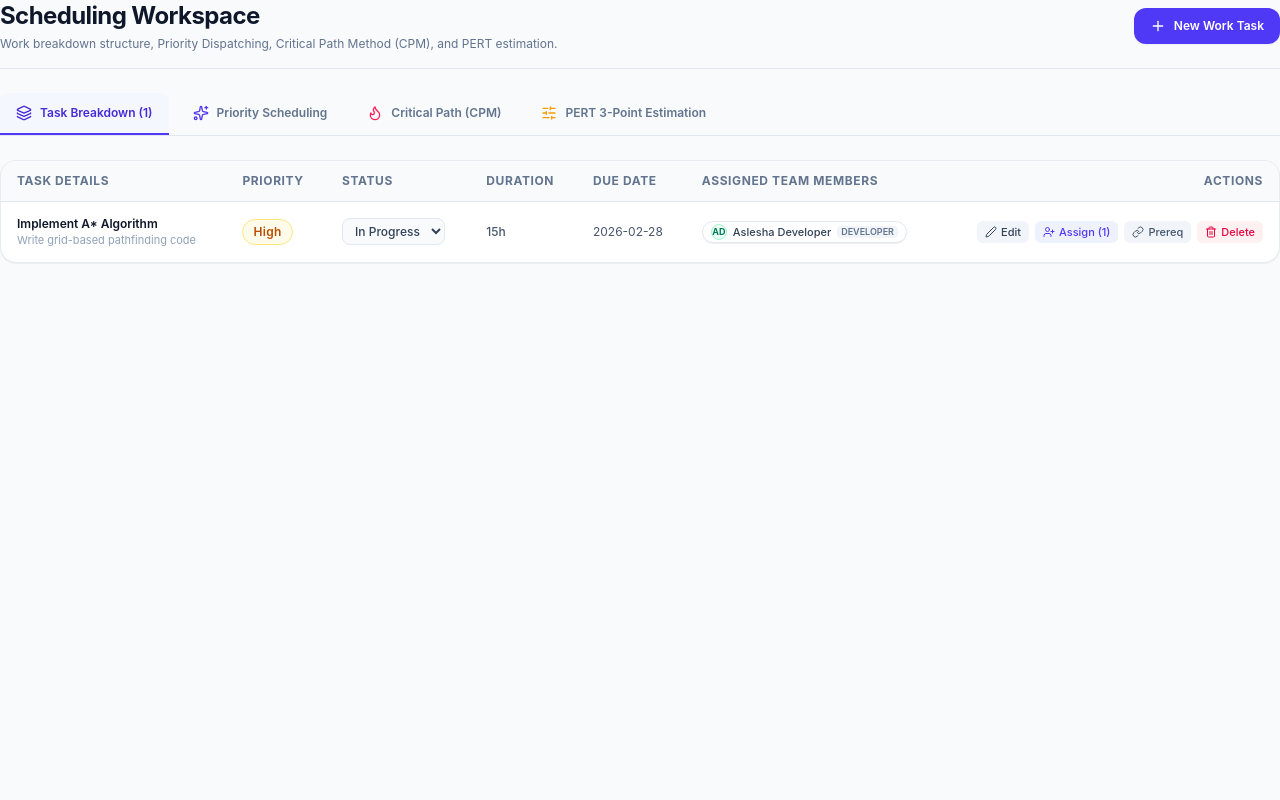
Test: General Edit and Delete Frontend Functionality › SchedulingPage Task Edit/Delete › opens prefilled task modal and submits task update
Later steps or results of the test are not shown.
Expected: the text "Implement A* Algorithm" is shown, [17,216,158,231]
Click the button "Edit".
click(1003, 232)  # box [977,220,1029,243]
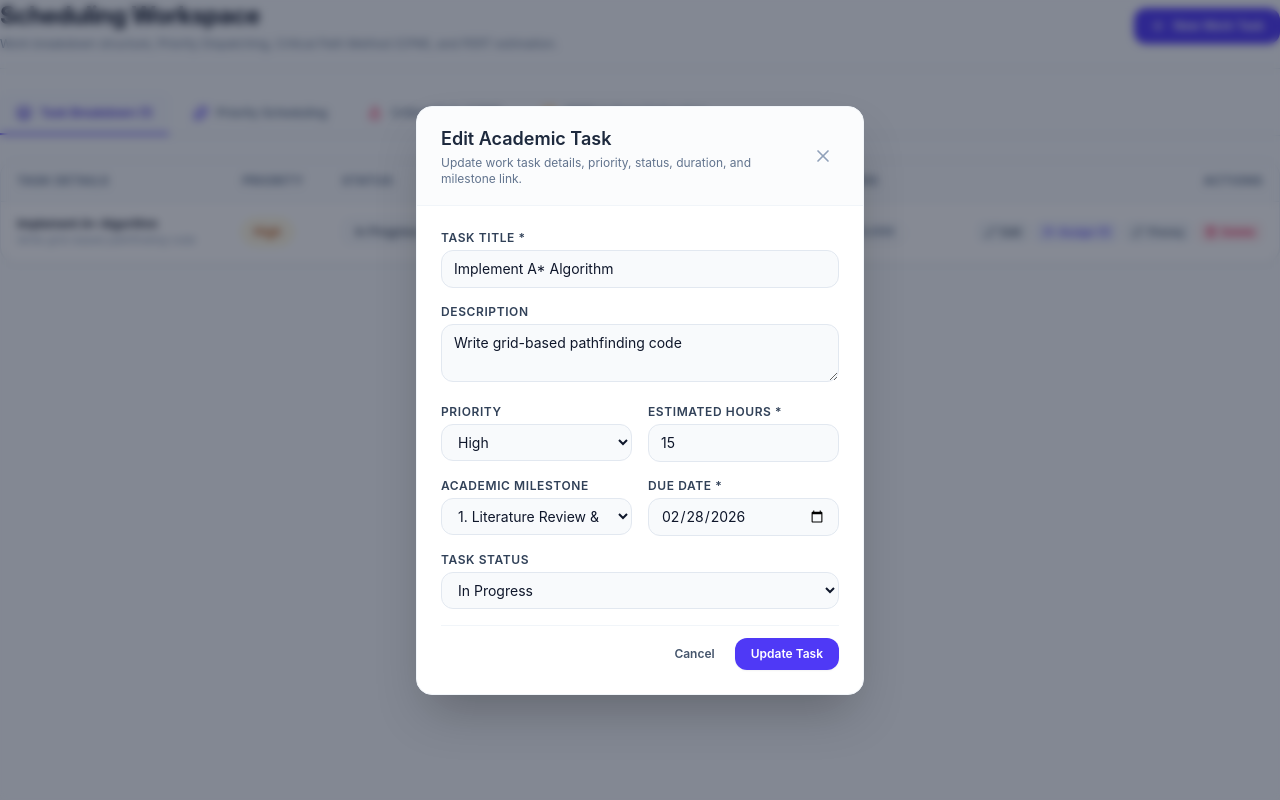
Result: the heading "Edit Academic Task" is shown at [441,128,611,148]
